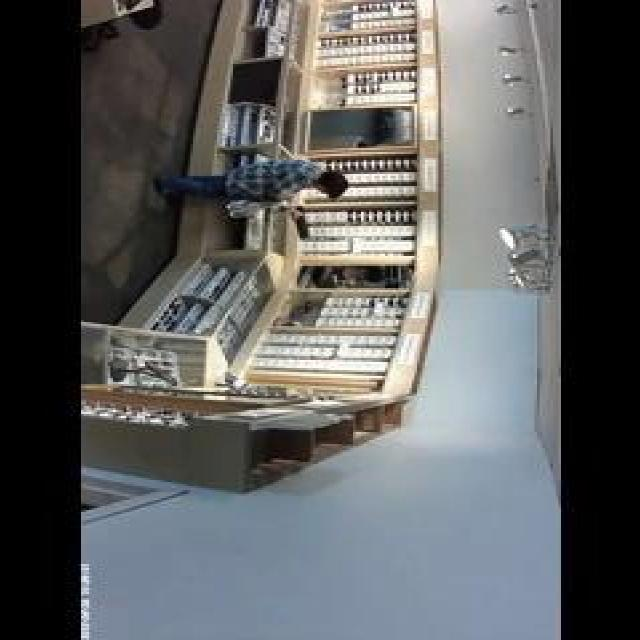Shoplifting: (141, 134, 353, 242)
